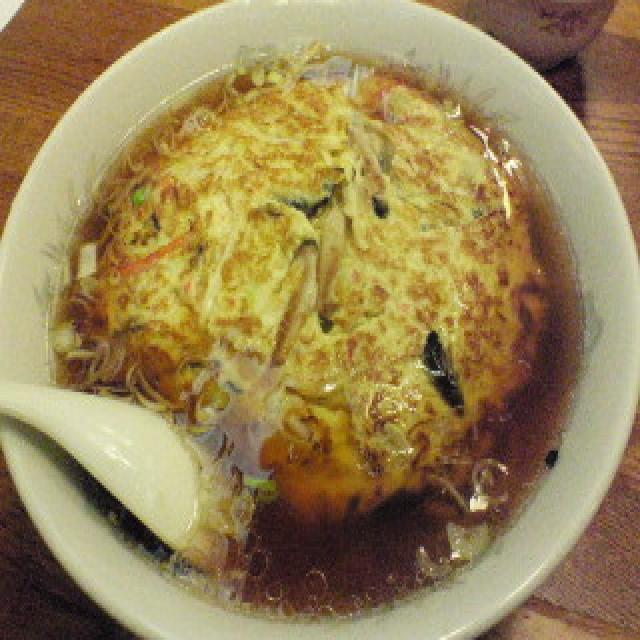面条主食: (48, 27, 600, 592)
